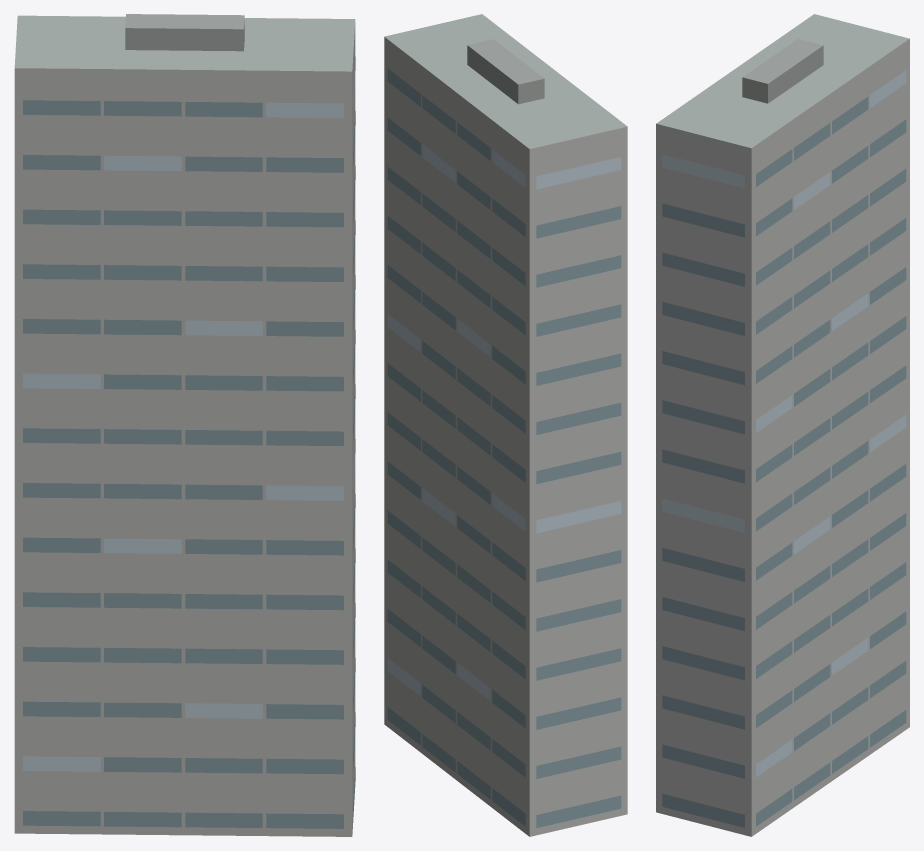
The model's file is fallback-jamsil-ricenz-254.glb.
3 renders of one model, left to right at view 1: azimuth 30°, elevation 25°; view 2: azimuth 150°, elevation 25°; view 3: azimuth 270°, elevation 25°, orthographic. The views are drawn at different scales.
Visible parts, largest first — view 1: fallback-jamsil-ricenz-254; view 2: fallback-jamsil-ricenz-254; view 3: fallback-jamsil-ricenz-254.
Part boxes in pixels (bbox=[...]): fallback-jamsil-ricenz-254: bbox=[14, 14, 355, 836]; fallback-jamsil-ricenz-254: bbox=[384, 14, 627, 836]; fallback-jamsil-ricenz-254: bbox=[656, 14, 909, 836].
Size of the model in its own units: 34.96 by 86 by 27.91.
